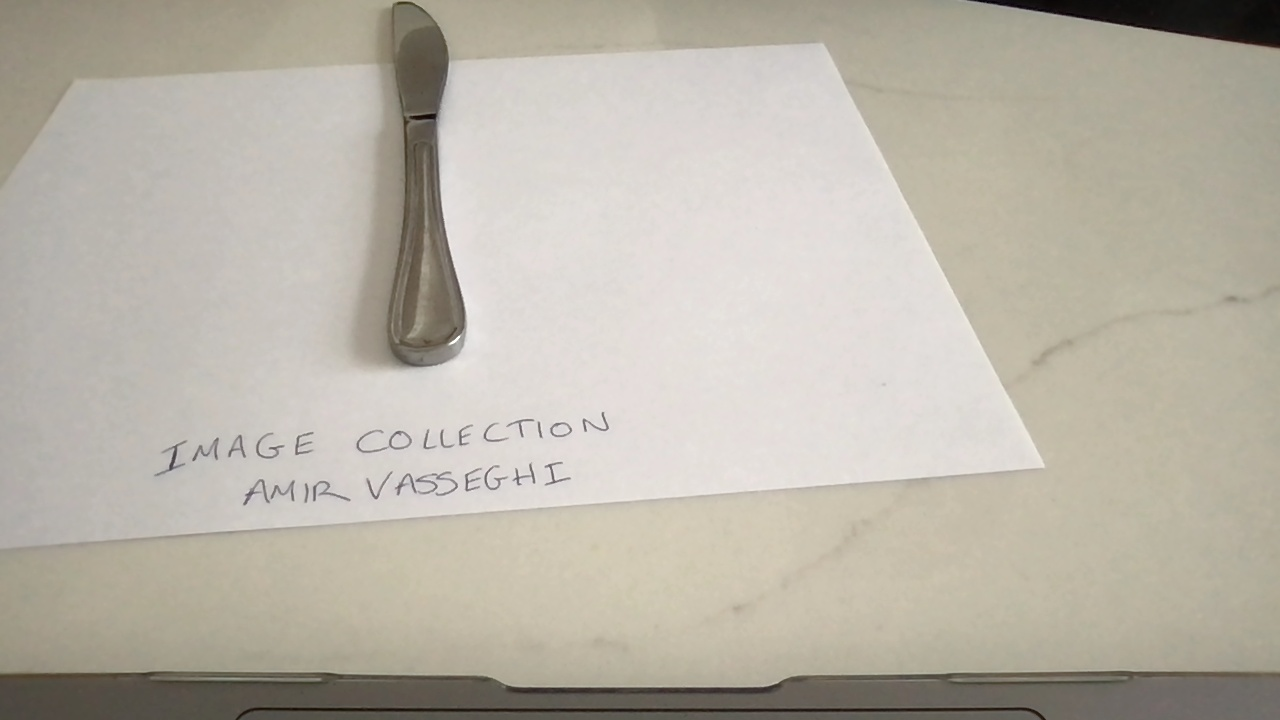knife: (386, 3, 469, 369)
